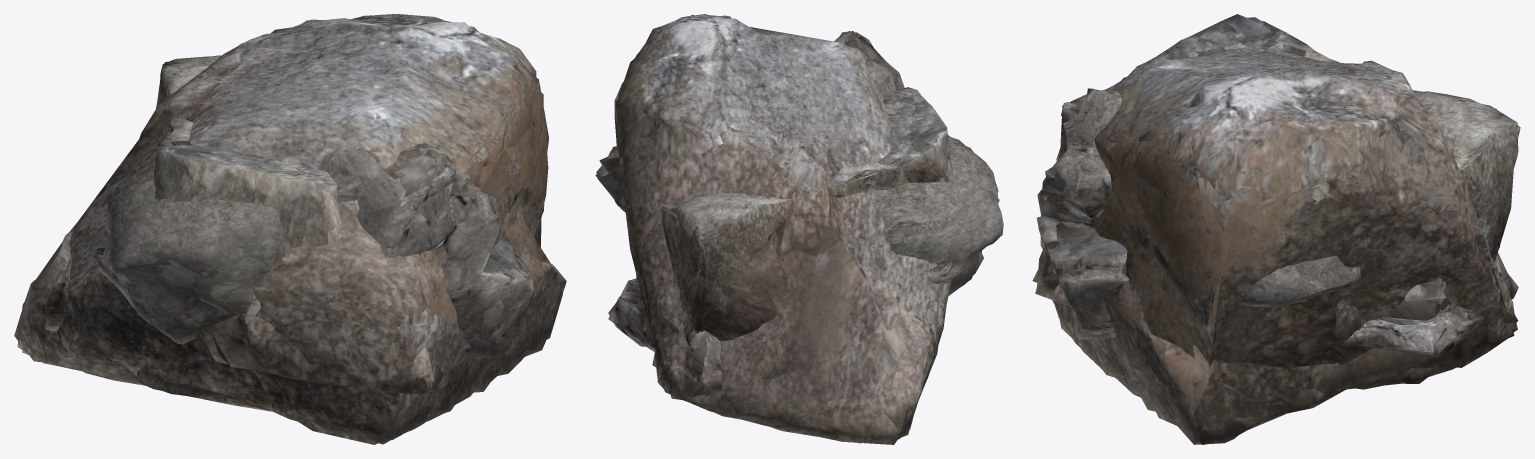
The model's file is armour.glb.
The picture shows the model from 3 angles, left to right: view 1: azimuth 30°, elevation 25°; view 2: azimuth 150°, elevation 25°; view 3: azimuth 270°, elevation 25°; orthographic projection. The views are drawn at different scales.
Parts seen in each view (by area): view 1: armour_2, armour_mid_2, armour_far_2, armour_away_2, armour_1, armour_0, armour_3, armour_mid_3, armour_mid_0, armour_far_3, armour_far_0, armour_far_1 (+4 smaller); view 2: armour_2, armour_mid_2, armour_far_2, armour_away_2, armour_1, armour_3, armour_mid_1, armour_far_1, armour_away_1, armour_mid_3, armour_0, armour_far_3 (+3 smaller); view 3: armour_2, armour_mid_2, armour_far_2, armour_away_2, armour_0, armour_1, armour_mid_0, armour_mid_1, armour_far_0, armour_far_1, armour_away_1, armour_3 (+4 smaller).
Boxes of the visible parts, x1=… form: armour_2: x1=14, y1=14, x2=566, y2=444; armour_mid_2: x1=17, y1=14, x2=562, y2=426; armour_far_2: x1=22, y1=15, x2=556, y2=444; armour_away_2: x1=43, y1=17, x2=557, y2=439; armour_1: x1=155, y1=56, x2=443, y2=392; armour_0: x1=318, y1=143, x2=533, y2=358; armour_3: x1=96, y1=165, x2=280, y2=343; armour_mid_3: x1=96, y1=167, x2=279, y2=344; armour_mid_0: x1=329, y1=143, x2=534, y2=354; armour_far_3: x1=93, y1=172, x2=277, y2=342; armour_far_0: x1=336, y1=144, x2=529, y2=348; armour_far_1: x1=155, y1=55, x2=442, y2=393; armour_2: x1=614, y1=14, x2=950, y2=443; armour_mid_2: x1=616, y1=14, x2=948, y2=441; armour_far_2: x1=617, y1=14, x2=944, y2=444; armour_away_2: x1=615, y1=22, x2=933, y2=399; armour_1: x1=662, y1=87, x2=950, y2=341; armour_3: x1=596, y1=135, x2=1003, y2=293; armour_mid_1: x1=667, y1=96, x2=948, y2=340; armour_far_1: x1=664, y1=91, x2=948, y2=339; armour_away_1: x1=661, y1=93, x2=952, y2=332; armour_mid_3: x1=595, y1=136, x2=998, y2=295; armour_0: x1=608, y1=31, x2=904, y2=392; armour_far_3: x1=597, y1=141, x2=1001, y2=279; armour_2: x1=1040, y1=48, x2=1514, y2=444; armour_mid_2: x1=1052, y1=48, x2=1517, y2=444; armour_far_2: x1=1041, y1=50, x2=1518, y2=431; armour_away_2: x1=1037, y1=51, x2=1514, y2=397; armour_0: x1=1037, y1=73, x2=1518, y2=356; armour_1: x1=1037, y1=14, x2=1517, y2=339; armour_mid_0: x1=1041, y1=88, x2=1513, y2=356; armour_mid_1: x1=1034, y1=17, x2=1518, y2=342; armour_far_0: x1=1043, y1=87, x2=1512, y2=353; armour_far_1: x1=1035, y1=21, x2=1520, y2=305; armour_away_1: x1=1032, y1=40, x2=1513, y2=282; armour_3: x1=1243, y1=248, x2=1360, y2=306.
Size of the model in its own units: 1.11 by 0.8229 by 1.11.
Materials: 1 (1 with a texture image).
